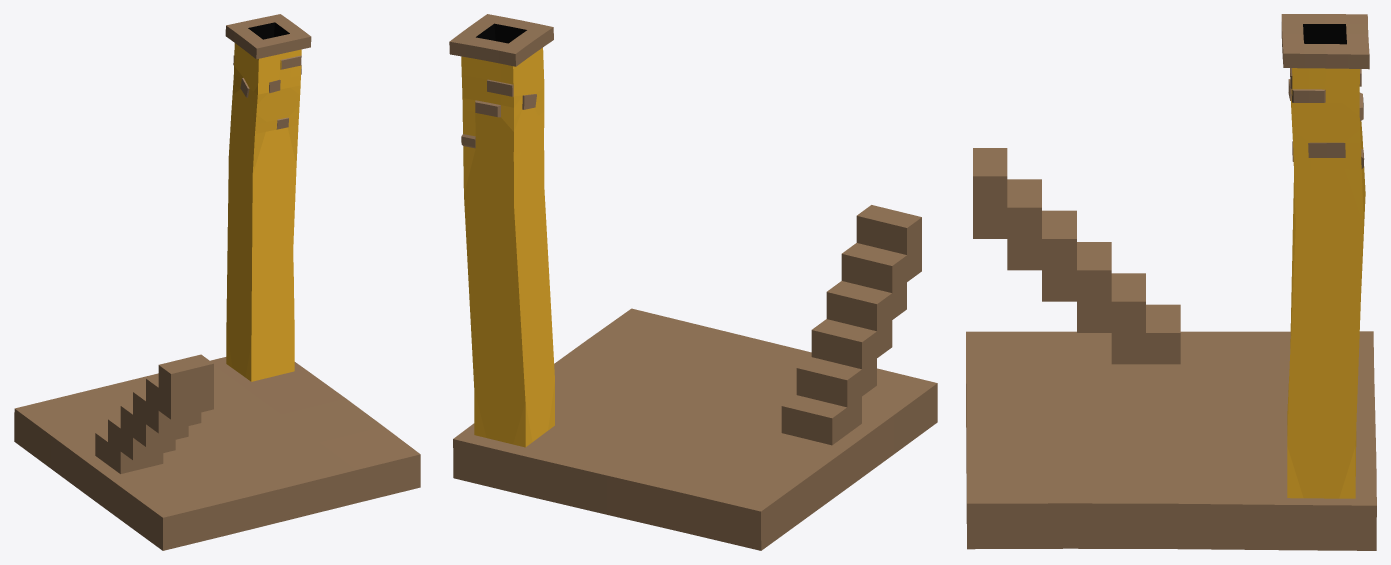
File: mokki2.0animaatio.fbx
The picture shows the model from 3 angles, left to right: view 1: azimuth 30°, elevation 25°; view 2: azimuth 150°, elevation 25°; view 3: azimuth 270°, elevation 25°; orthographic projection. The views are drawn at different scales.
Parts seen in each view (by area): view 1: bottom, chimney, inside stairs; view 2: bottom, chimney, inside stairs; view 3: bottom, chimney, inside stairs.
Boxes of the visible parts, x1,y1,x2,y2 form: bottom: (14,357,420,550); chimney: (225,14,311,381); inside stairs: (95,354,213,473); bottom: (453,308,937,550); chimney: (449,14,554,447); inside stairs: (781,205,921,445); bottom: (966,331,1376,550); chimney: (1281,14,1369,498); inside stairs: (973,148,1180,364).
Size of what is drawn, in the model's own units: 3332 by 4422 by 3268.
